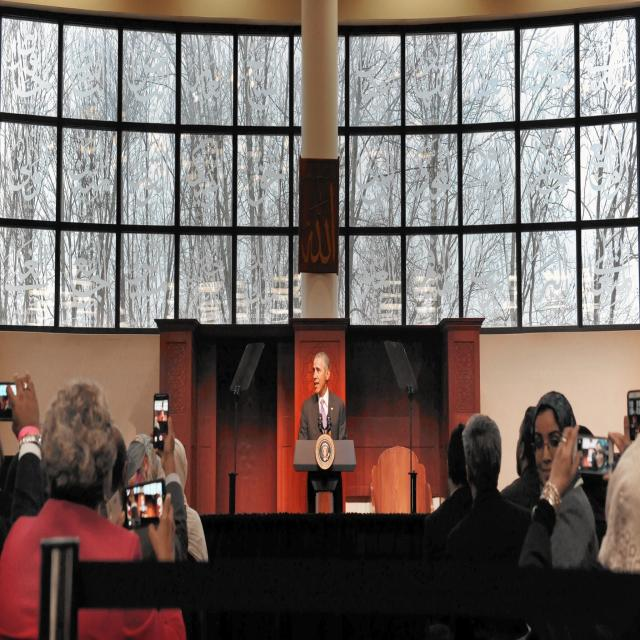body: (0, 379, 187, 640), (512, 415, 640, 639), (428, 412, 530, 639), (516, 388, 598, 640), (103, 416, 189, 566), (296, 348, 348, 513), (155, 435, 210, 563), (0, 370, 43, 527), (499, 404, 543, 511), (428, 423, 471, 516), (615, 385, 640, 444), (589, 437, 609, 474)
